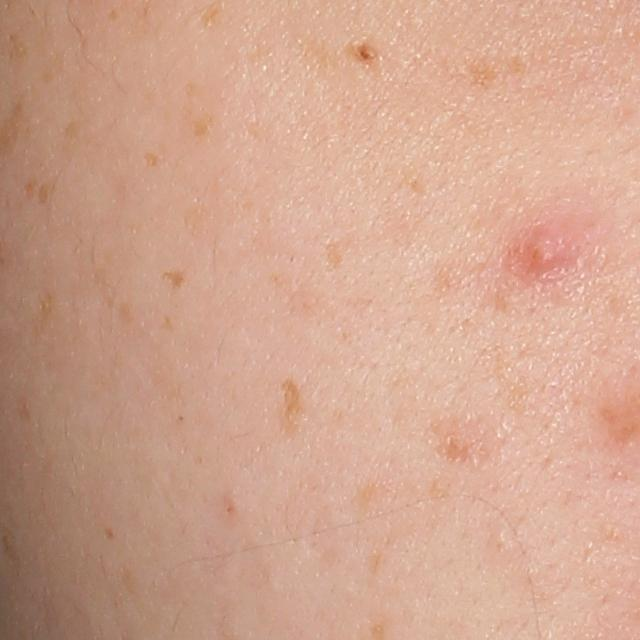comedo: (491, 530, 511, 549)
melasma: (455, 49, 529, 90), (276, 375, 303, 438), (158, 268, 192, 295), (140, 151, 164, 170), (35, 180, 52, 205), (100, 526, 117, 543)
papule: (508, 220, 574, 275)
